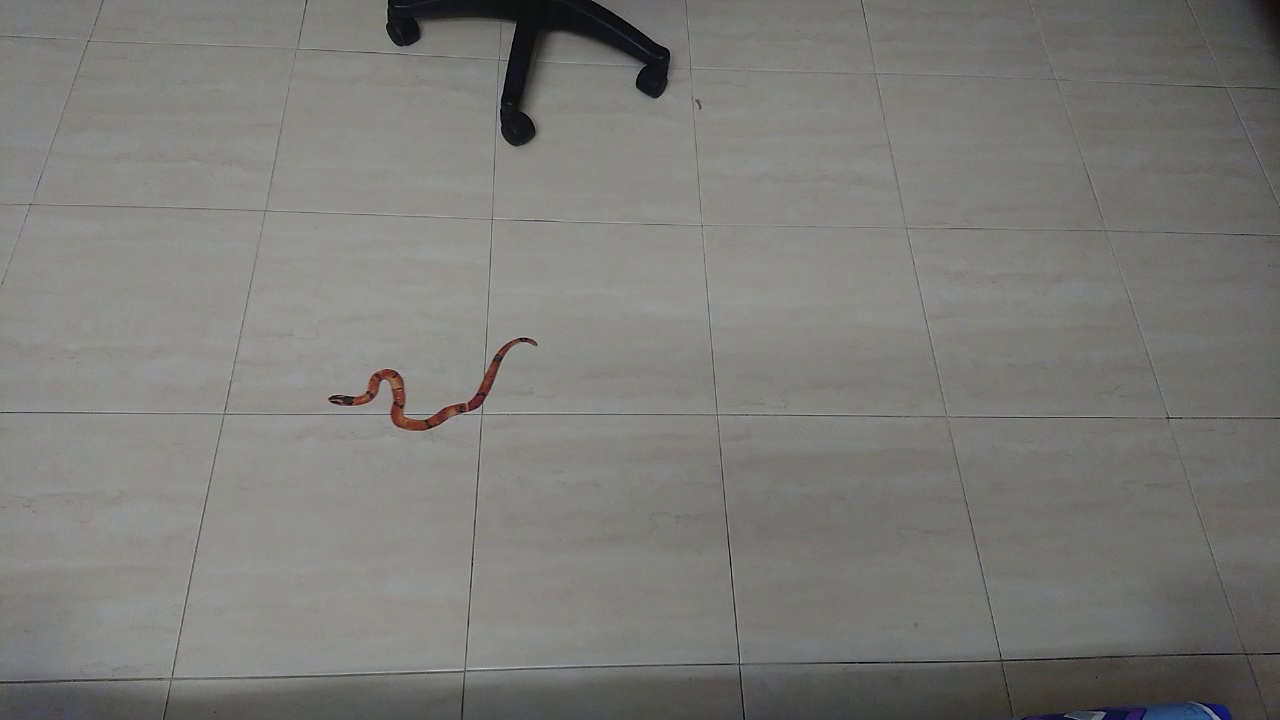snake: (313, 326, 553, 452)
